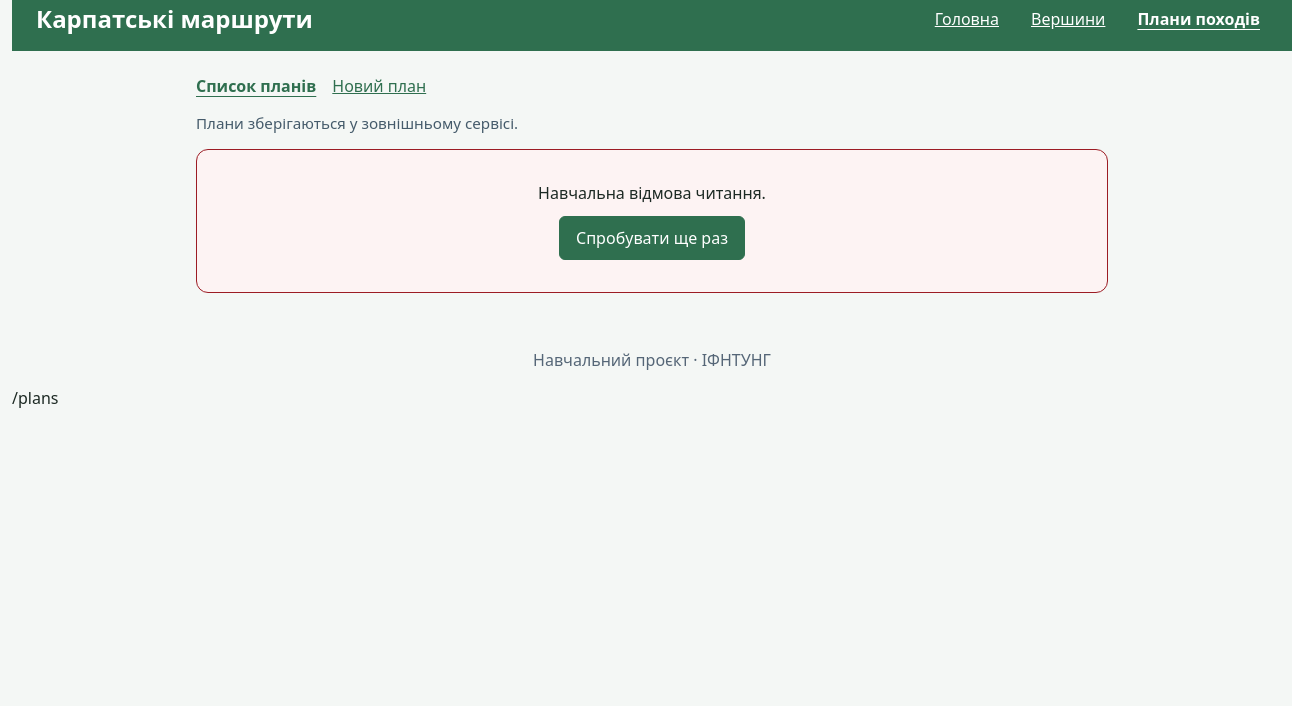
it: після відмови читання повторно завантажує дані
Expected: the message reads "Навчальна відмова читання.", [538,182,766,204]
Click the button "Спробувати ще раз": (652, 238) [559,216,745,260]
(page scrolled)
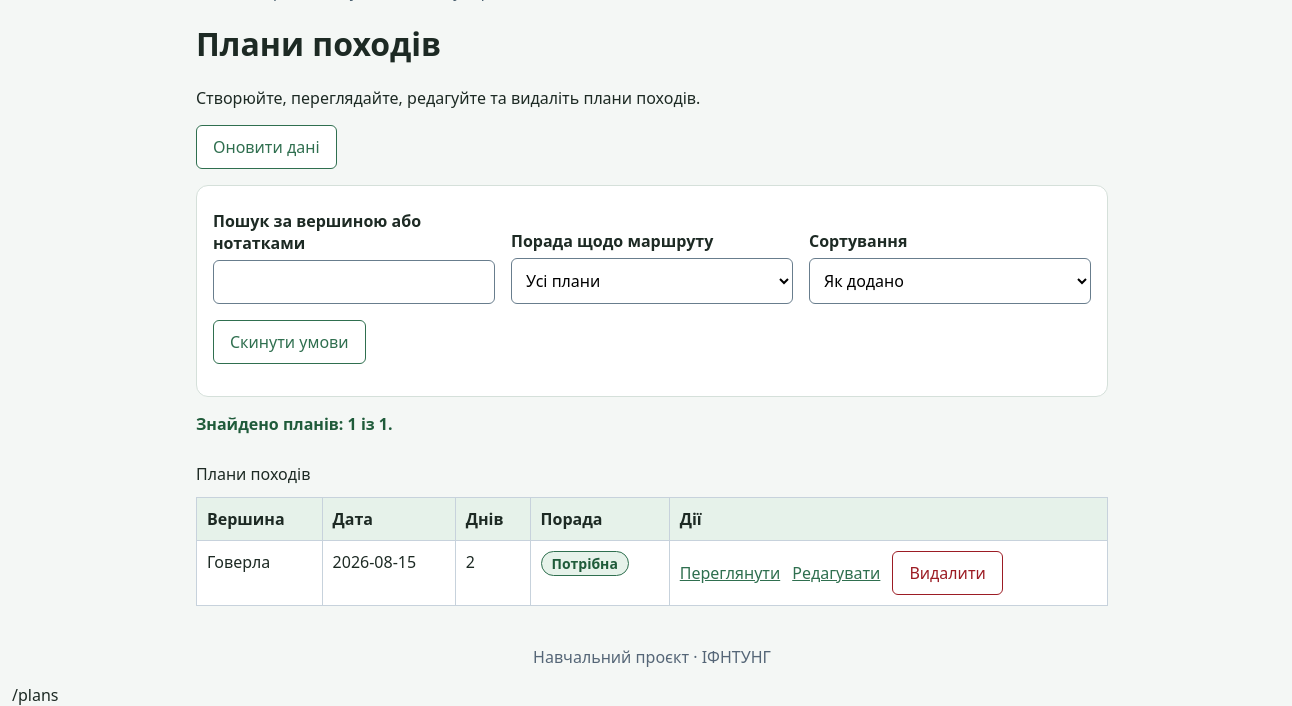
Expected: the cell "Говерла" is shown, [196,540,322,605]
